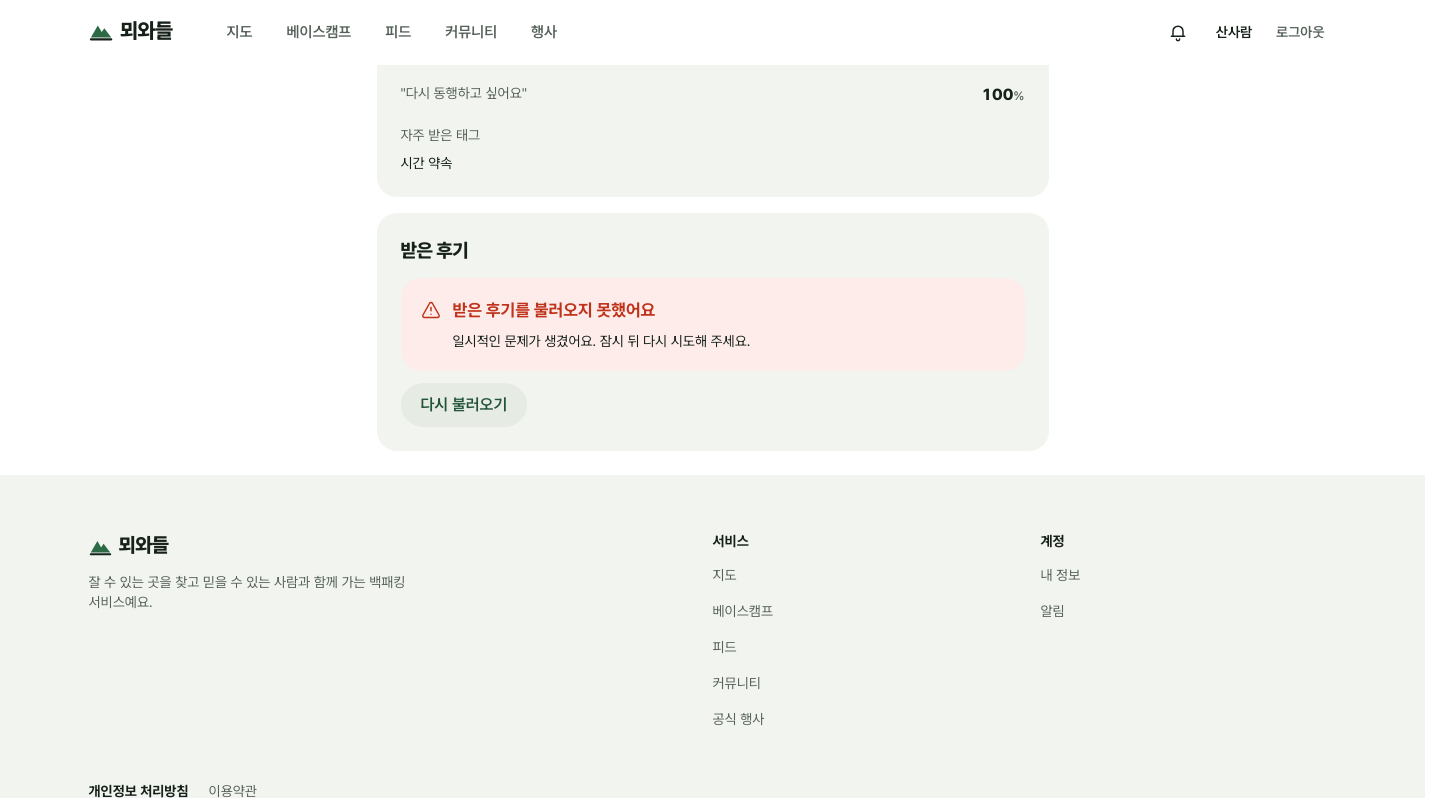
Test: 회원 프로필: 받은 후기 › 후기를 불러오지 못하면 안내하고 다시 불러올 수 있다
(page scrolled)
Step 1. Click the button "다시 불러오기" → (464, 405), box [400, 383, 527, 427]
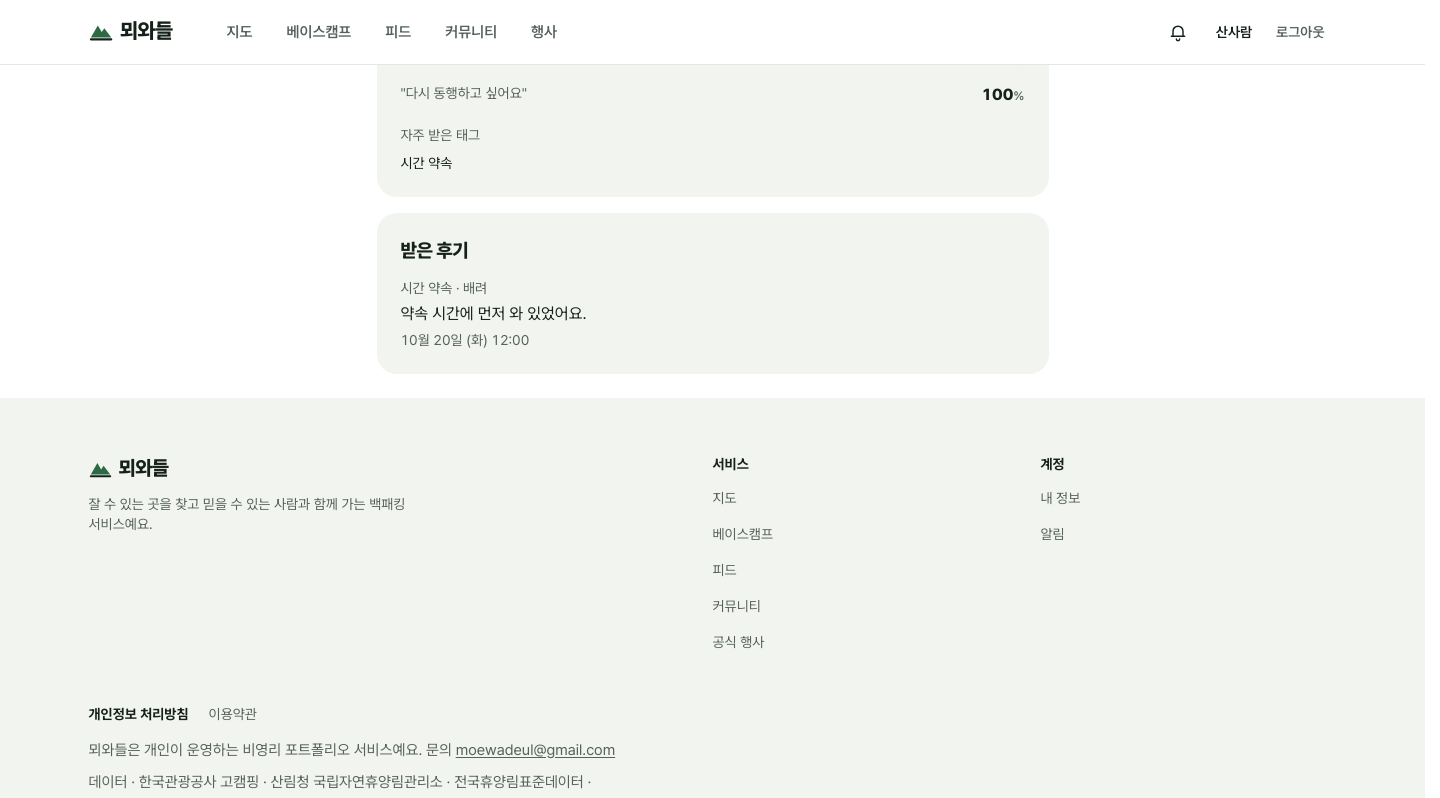
Now the text "약속 시간에 먼저 와 있었어요." is shown, box [400, 304, 587, 322]
